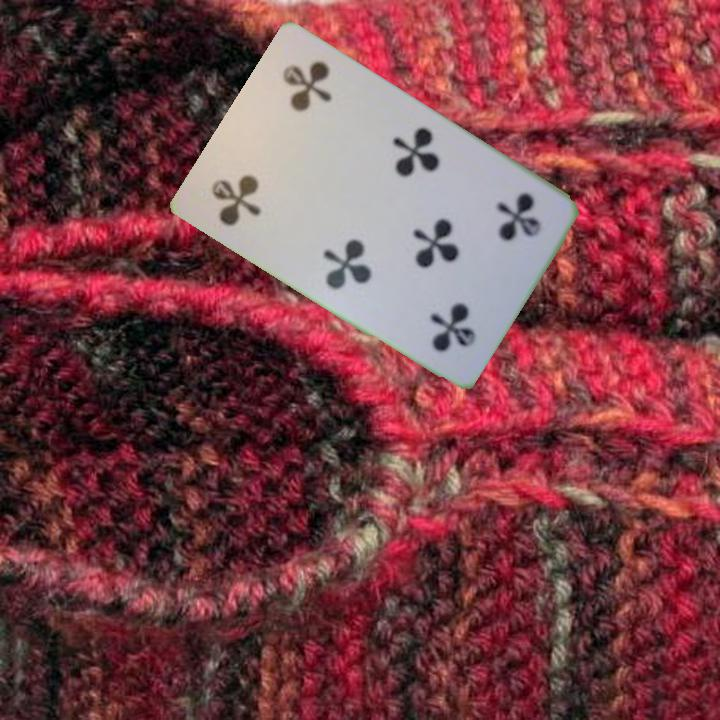c_7.png: (189, 120, 313, 248), (439, 166, 562, 294)
